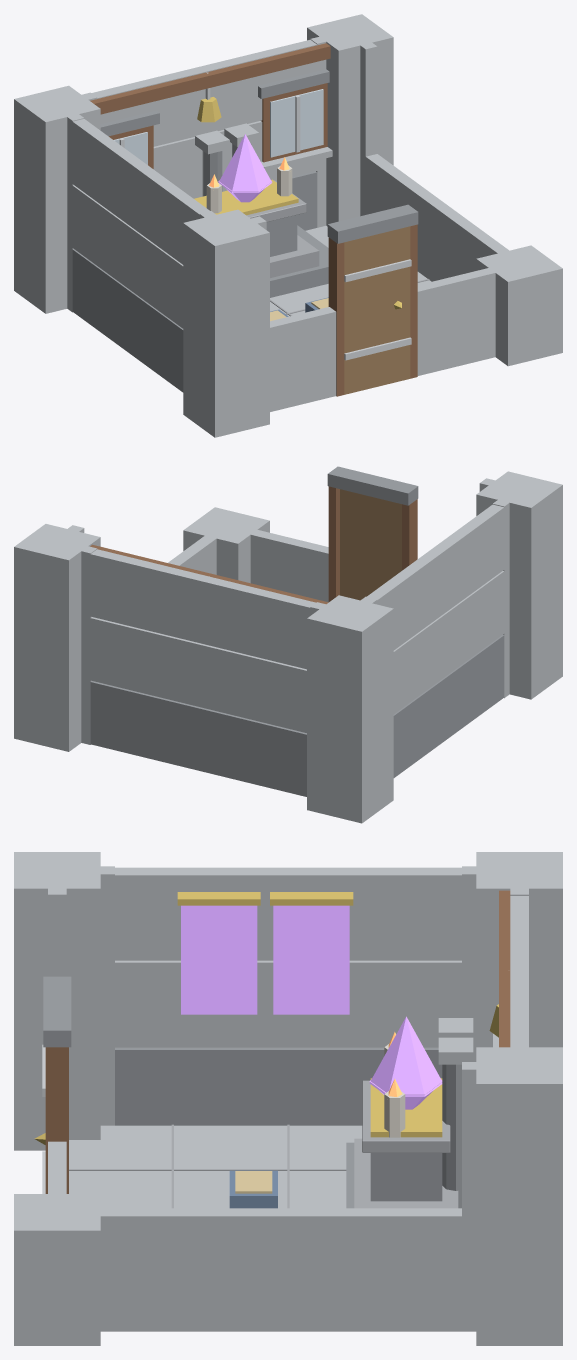
Rendered from shrine_interior.glb.
3 renders of one model, top to bottom at view 1: azimuth 30°, elevation 25°; view 2: azimuth 150°, elevation 25°; view 3: azimuth 270°, elevation 25°, orthographic. The views are drawn at different scales.
Visible parts, largest first — view 1: floor_slab.002; view 2: floor_slab.002; view 3: floor_slab.002.
Boxes of the visible parts, bbox=[...] form: floor_slab.002: bbox=[14, 14, 562, 437]; floor_slab.002: bbox=[14, 466, 562, 823]; floor_slab.002: bbox=[14, 852, 562, 1345].
Bounding box in the file's own units: 4.75 × 2.5 × 4.75.
